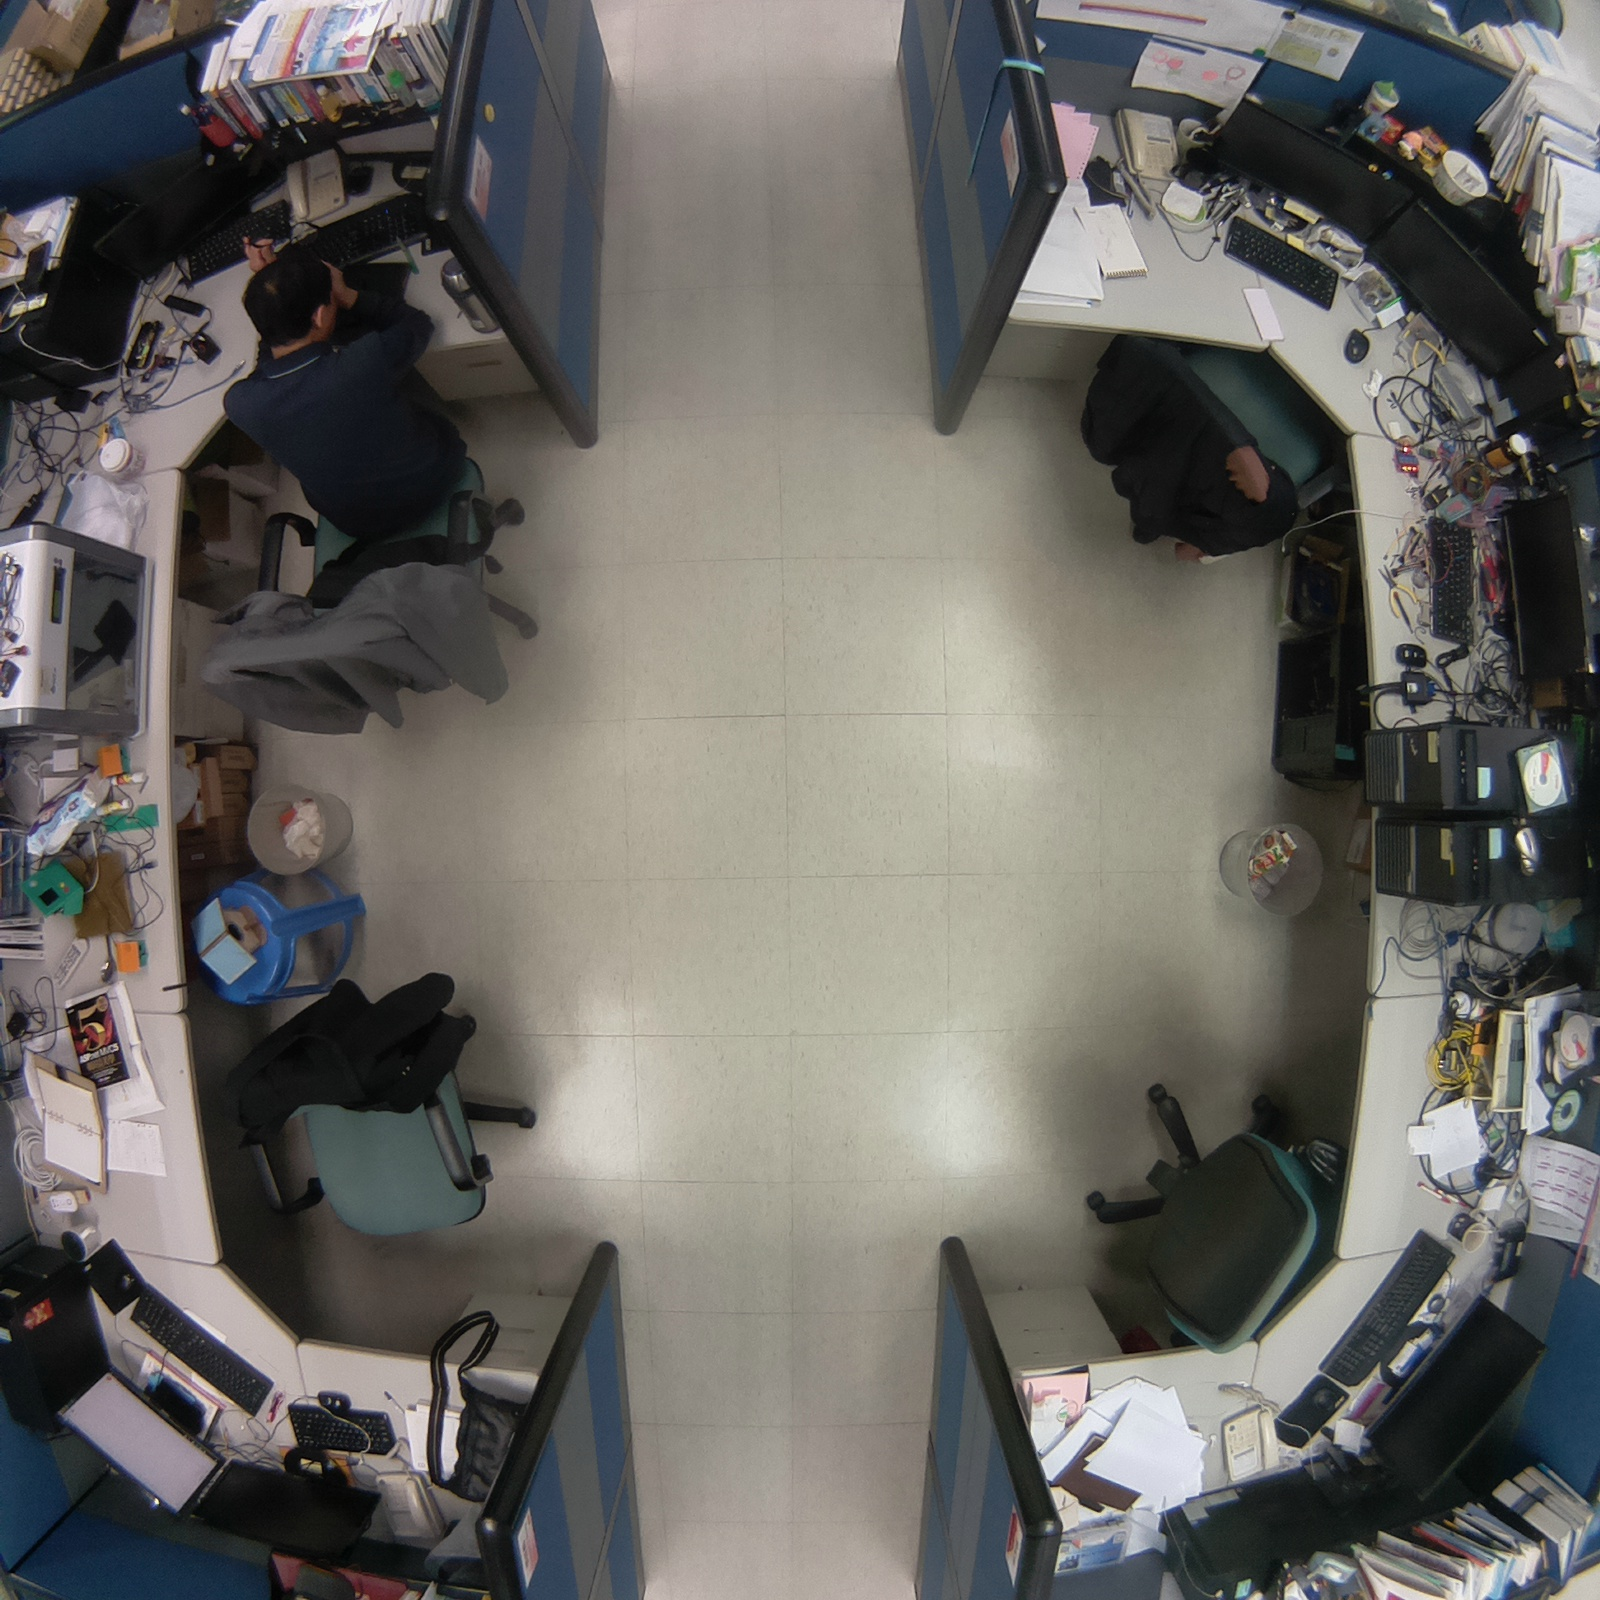chair: (217, 958, 558, 1260), (1070, 1063, 1345, 1363), (1068, 317, 1363, 565)
head: (236, 253, 353, 365)
sitting: (173, 244, 555, 734)
